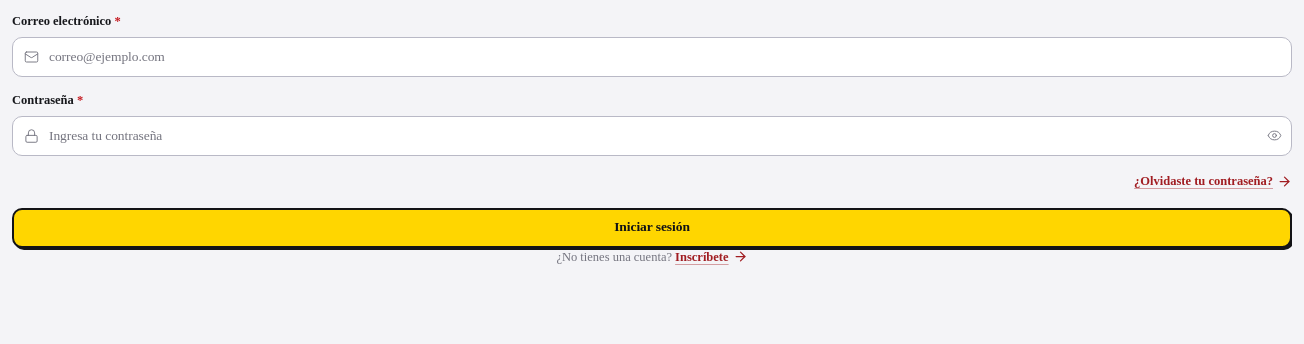
Test case: LoginPage › failed submission › names the remedy as the club assigning a single role, not letting the account keep one (issue #865)
Type "user@cataclub.com" into the field labelled "Correo electrónico *" at (652, 57), box [12,37,1292,77]
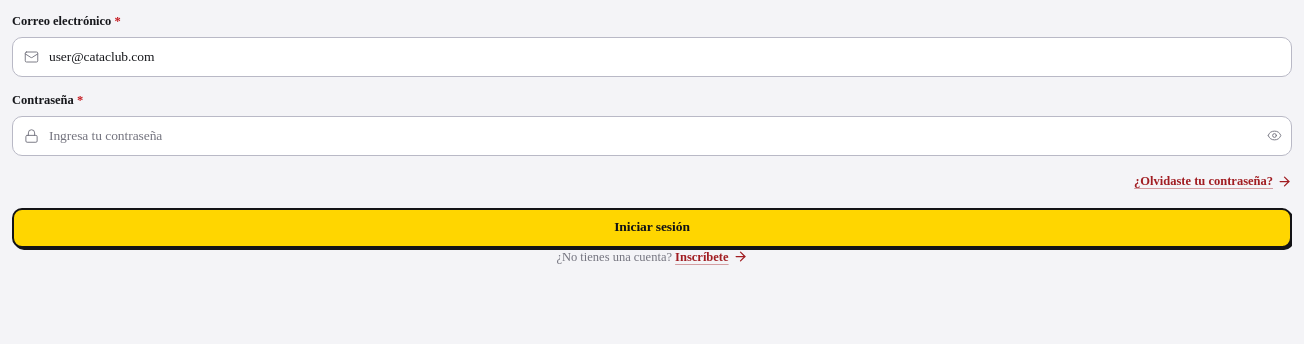
Type "secret123" into the password field labelled "Contraseña *" at (652, 136), box [12,116,1292,156]
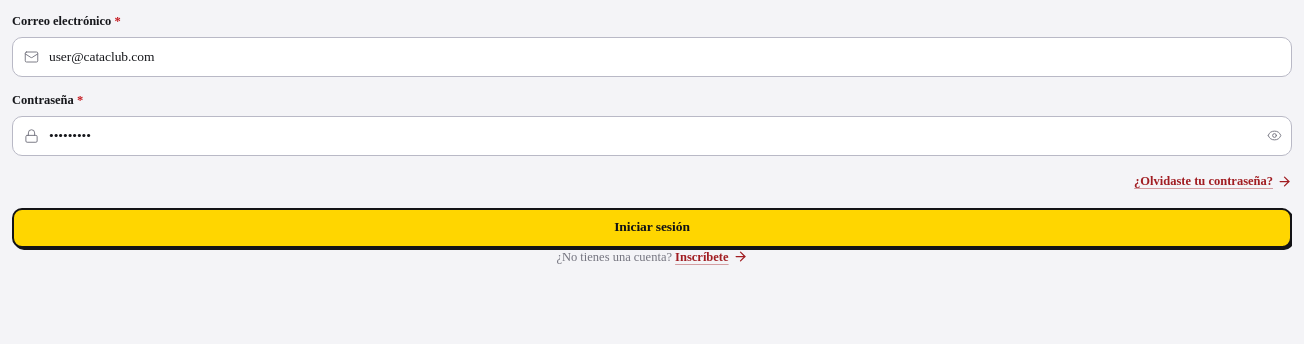
Click the button "Iniciar sesión" at (652, 228), box [12,208,1292,248]
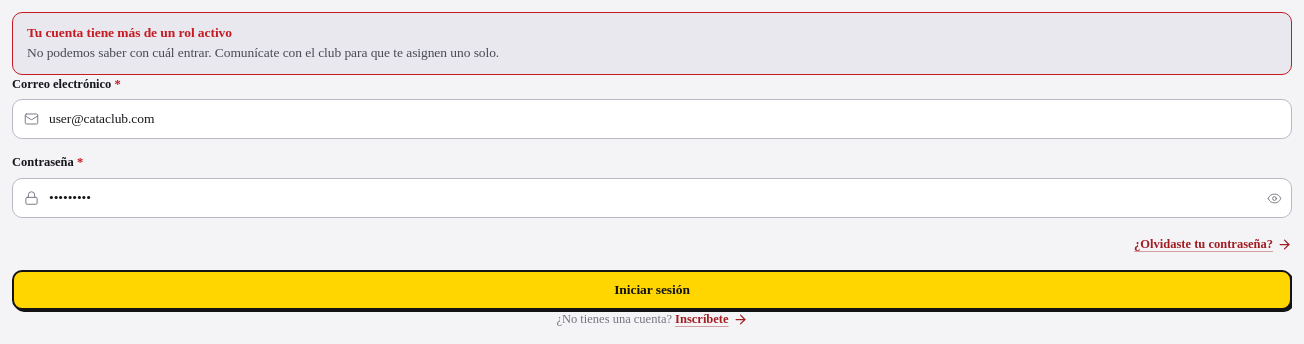
Result: the message with test id "login-failure" shows "Tu cuenta tiene más de un rol activo" at [27,25,232,40]
Result: the message with test id "login-failure" shows "No podemos saber con cuál entrar. Comunícate con el club para que te asignen uno solo." at [27,45,499,60]
